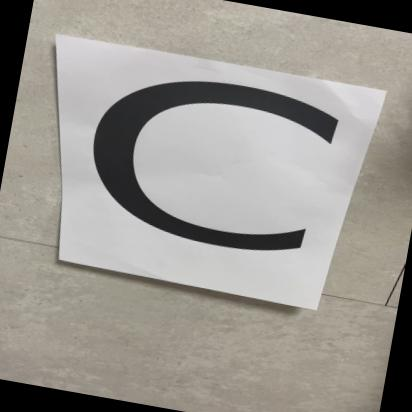seat: (29, 42, 362, 312)
